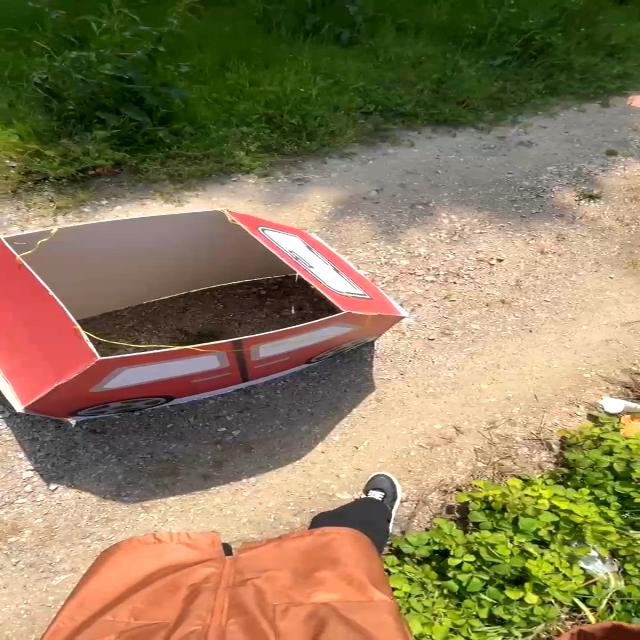red_car: (0, 189, 439, 434)
